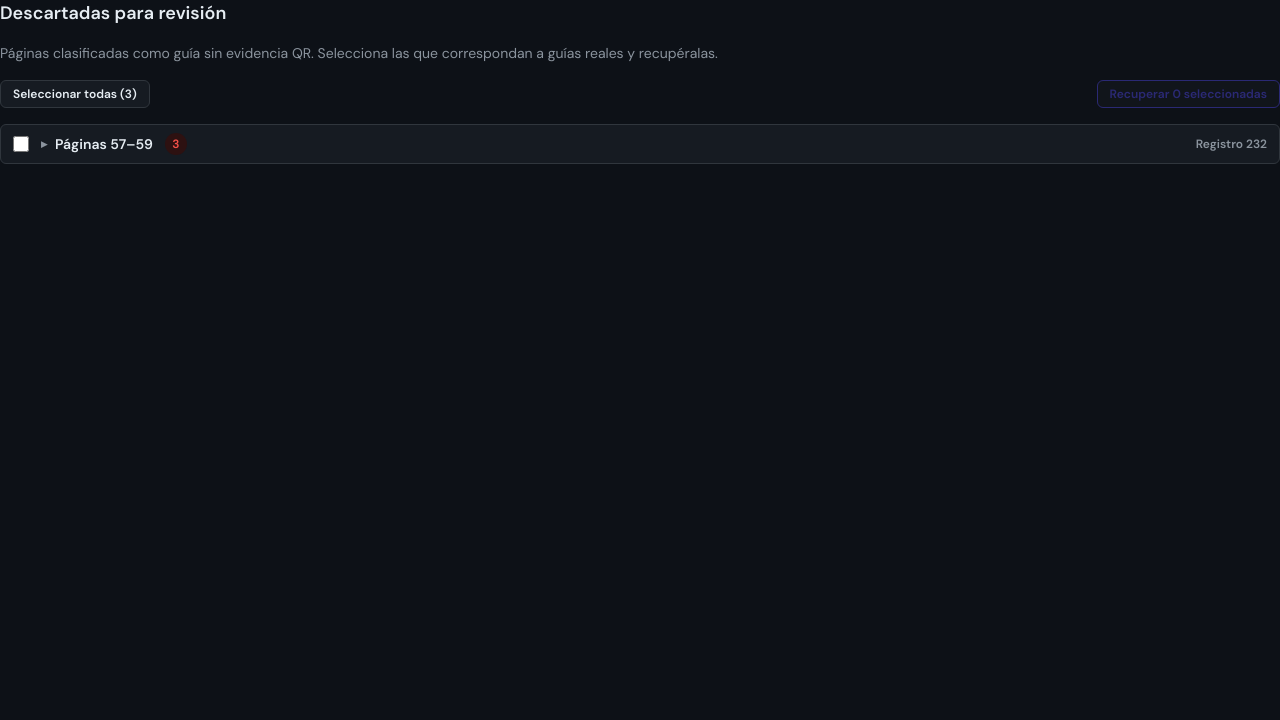
Scenario: DescartadasTab — A3 confirm dialog before batch fire › does NOT show the vision-cost warning when every selected page has cached lines
Step 1. Click the button with class "descartadas-tab__select-all" → (75, 94), box [0,80,150,108]
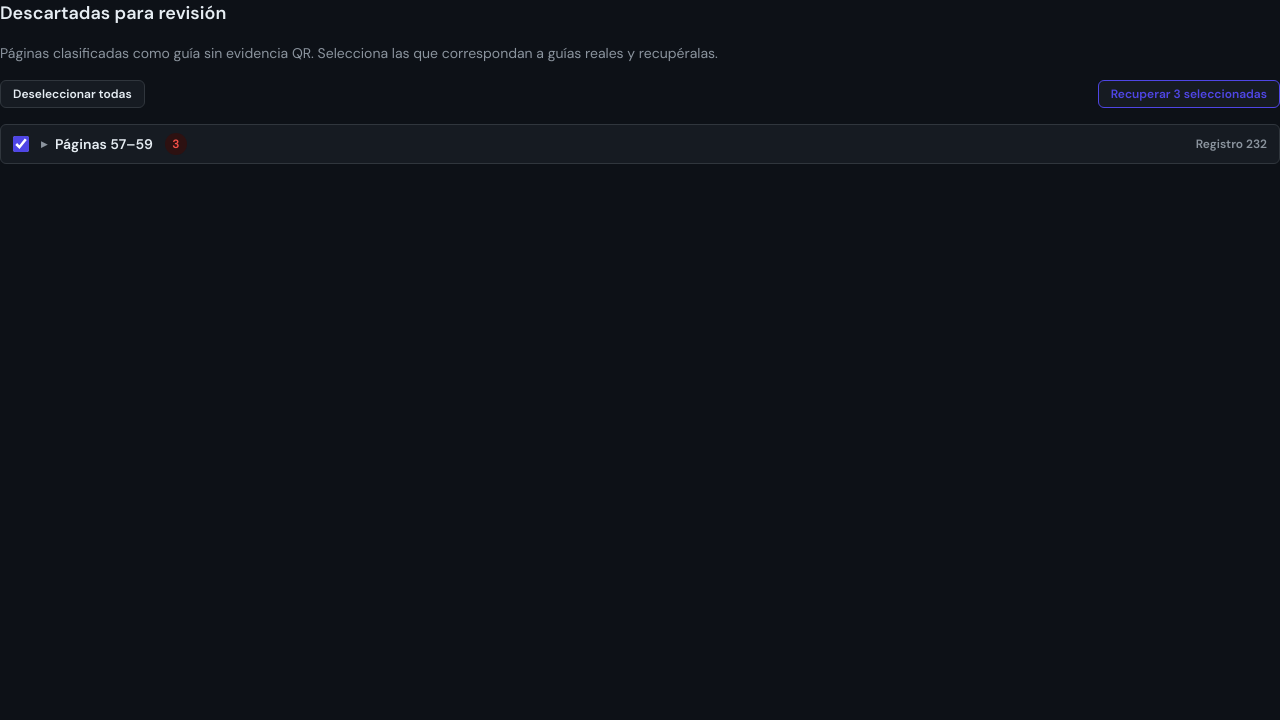
Step 2. Click the button with class "descartadas-tab__bulk-btn" → (1189, 94), box [1098,80,1279,108]
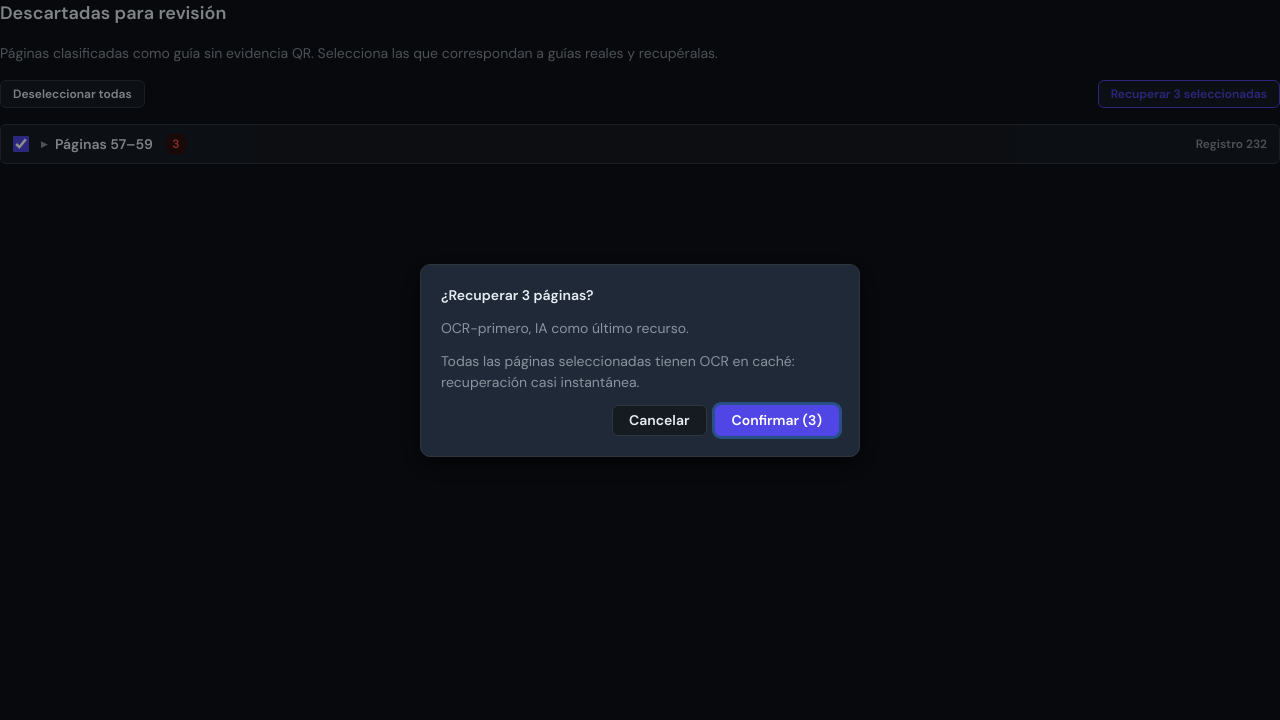
Expected: the dialog with class "descartadas-tab__dialog" shows "3", [441,286,593,304]
